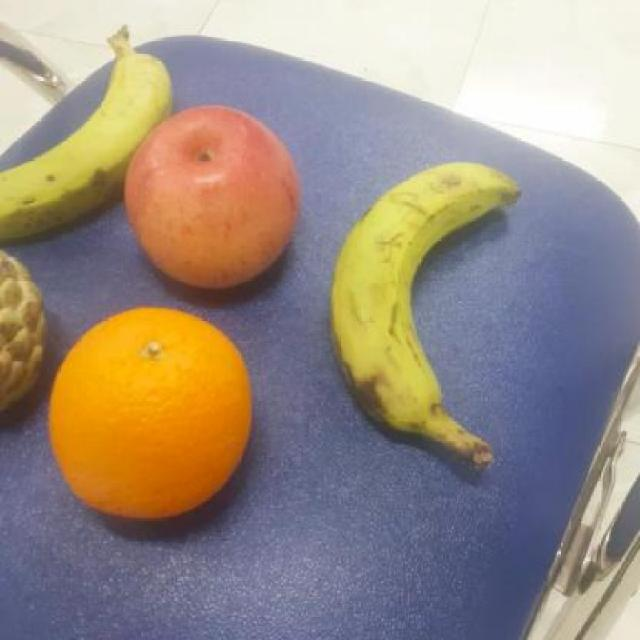apple: (121, 104, 302, 290)
banana: (325, 158, 527, 434), (1, 43, 181, 239)
oren: (45, 305, 253, 523)
sugar apple: (1, 242, 48, 420)
